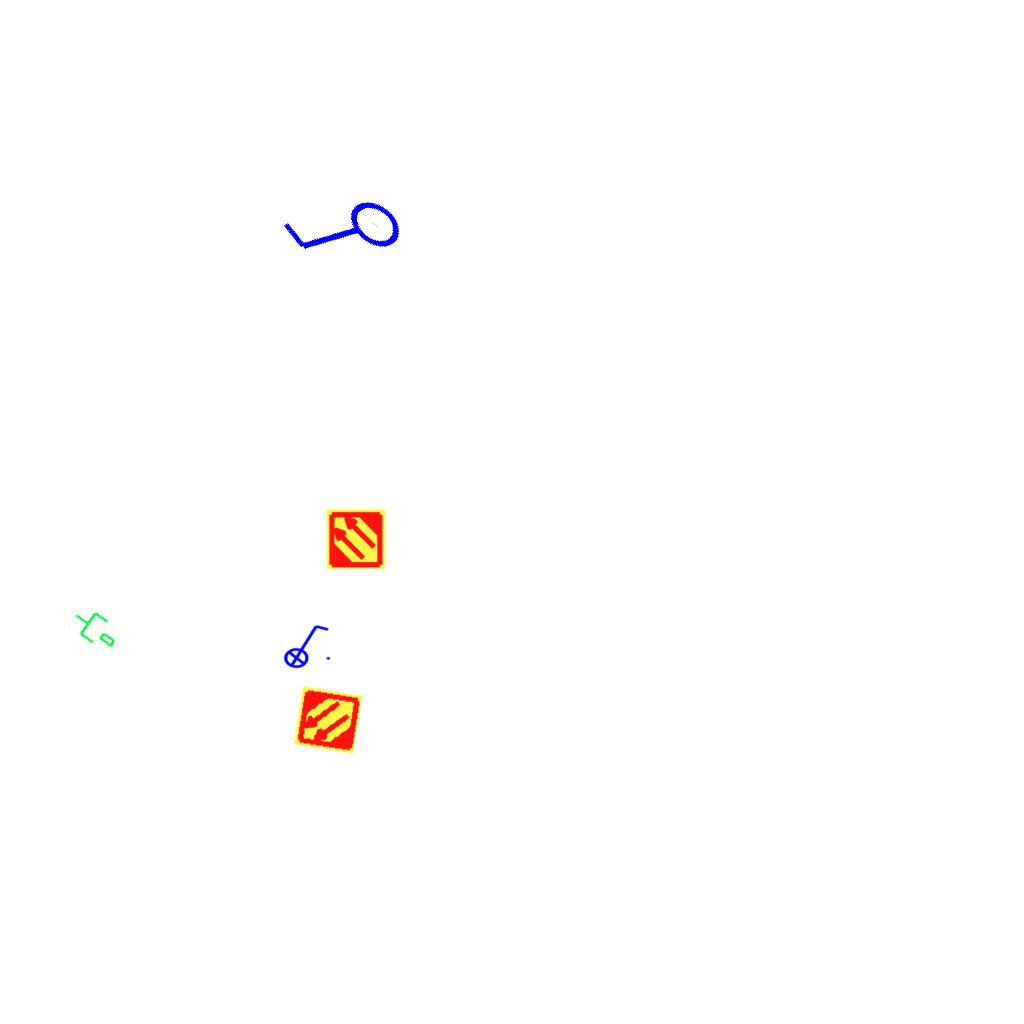ASR_Ansaugrauchmelder: (292, 684, 364, 756), (325, 508, 387, 570)
Ausschalter: (271, 161, 419, 307)
Ausschalter_beleuchtet: (277, 621, 333, 669)
Datenanschluss_einfach: (65, 599, 127, 657)
